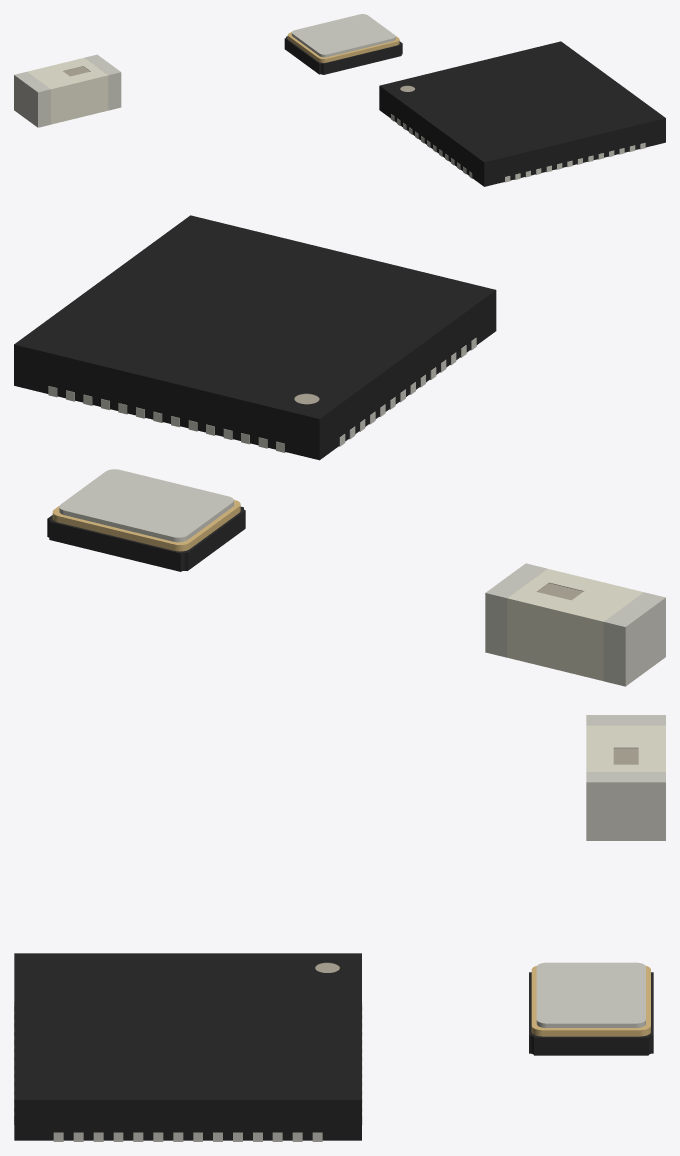
File: package_bounds.glb
The picture shows the model from 3 angles, top to bottom: view 1: azimuth 30°, elevation 25°; view 2: azimuth 150°, elevation 25°; view 3: azimuth 270°, elevation 25°; orthographic projection. The views are drawn at different scales.
Parts seen in each view (by area): view 1: =>[0:1:1:7], =>[0:1:1:3], =>[0:1:1:5]; view 2: =>[0:1:1:7], =>[0:1:1:3], =>[0:1:1:5]; view 3: =>[0:1:1:7], =>[0:1:1:5], =>[0:1:1:3].
Part boxes in pixels (<box>): =>[0:1:1:7]: <box>379,41,665,186</box>; =>[0:1:1:3]: <box>14,54,121,127</box>; =>[0:1:1:5]: <box>284,14,402,74</box>; =>[0:1:1:7]: <box>14,215,496,460</box>; =>[0:1:1:3]: <box>485,563,665,686</box>; =>[0:1:1:5]: <box>47,469,245,571</box>; =>[0:1:1:7]: <box>14,953,362,1141</box>; =>[0:1:1:5]: <box>529,962,653,1055</box>; =>[0:1:1:3]: <box>586,715,665,840</box>.
Bounding box in the file's own units: 0.0175 × 0.0013 × 0.0131.
